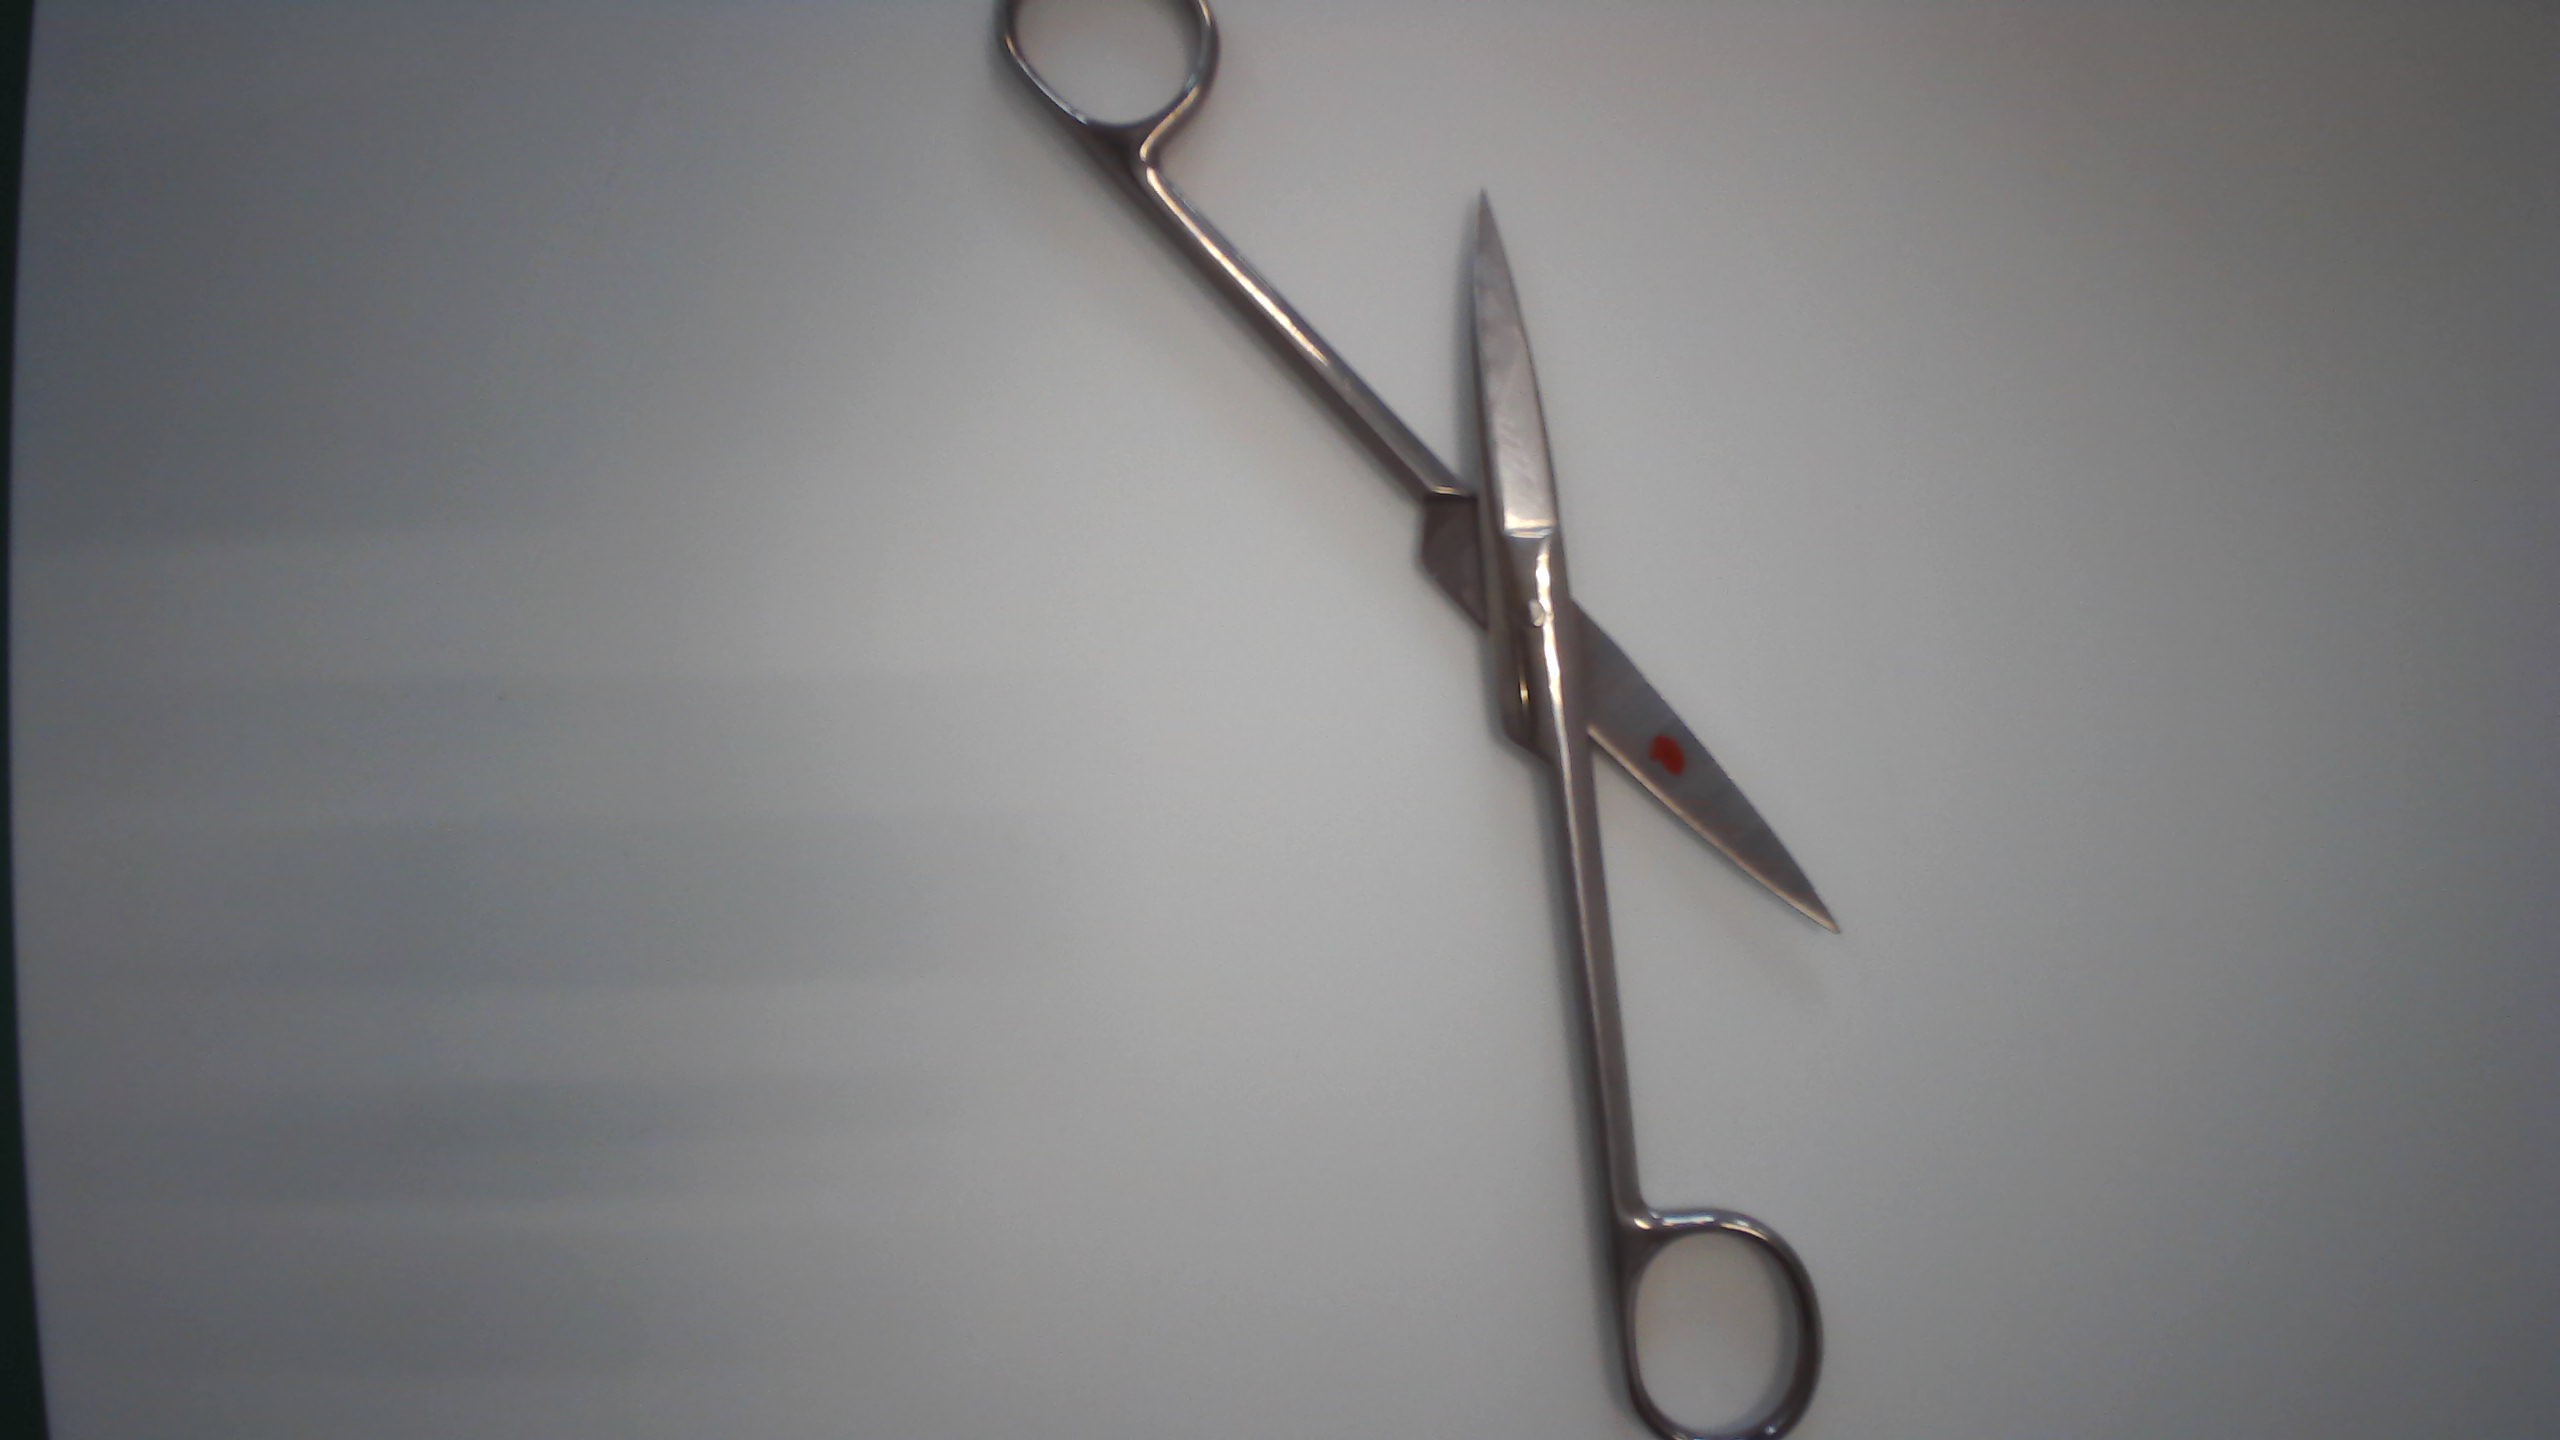Stain: (1640, 723, 1695, 781)
